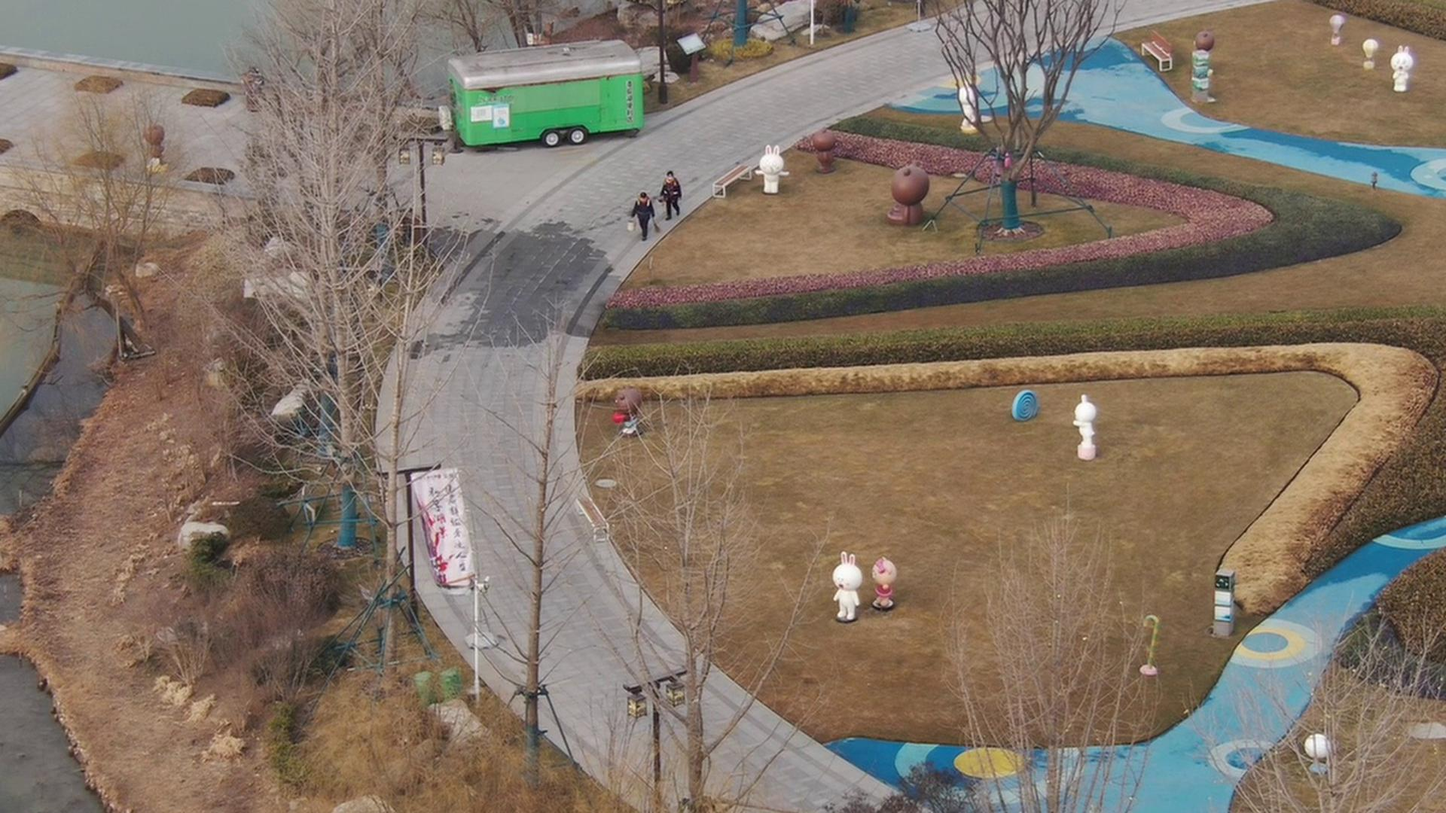human: (651, 166, 689, 221), (621, 188, 654, 241)
